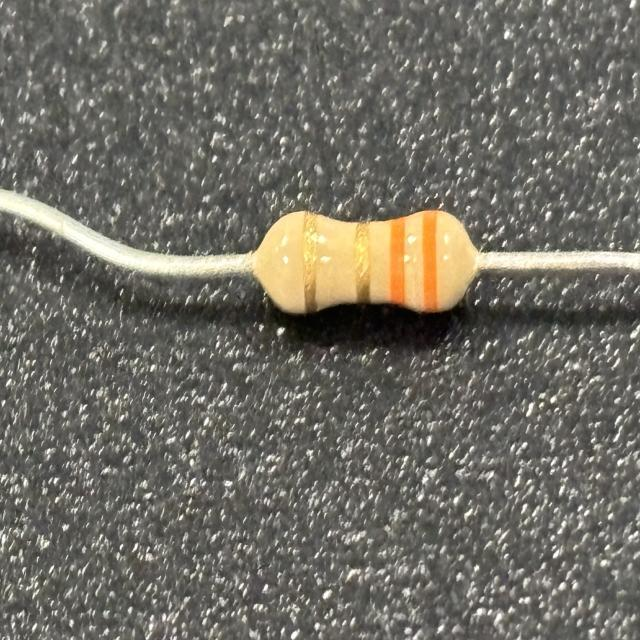resistor: (275, 206, 466, 320)
